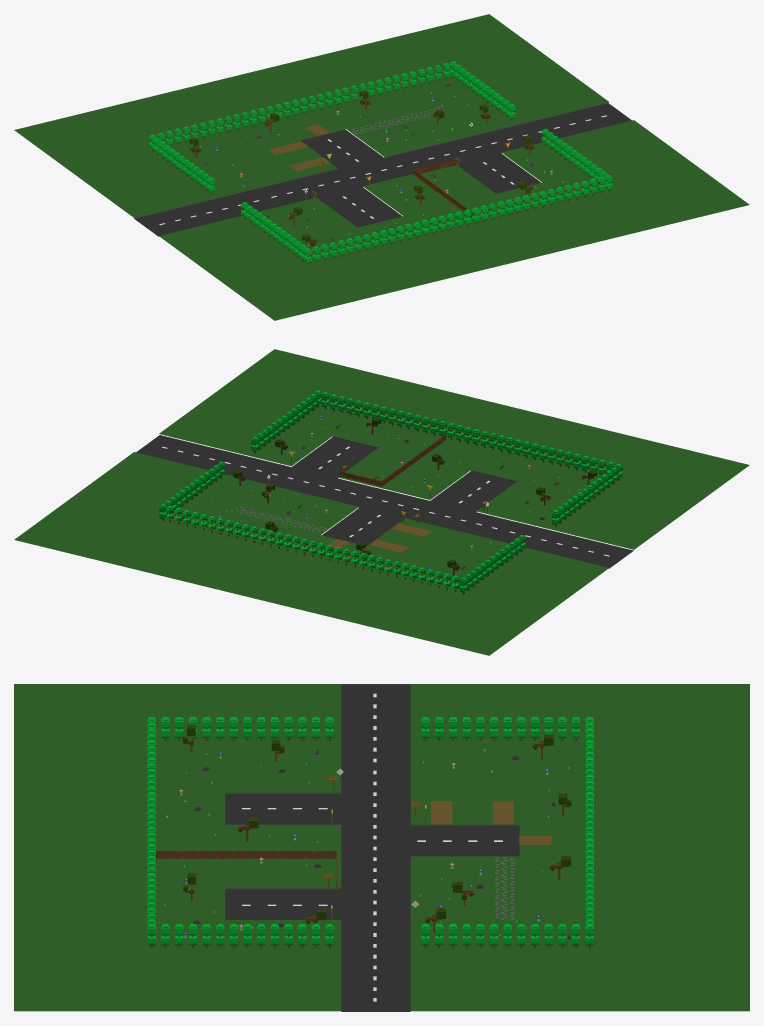
The picture shows the model from 3 angles, top to bottom: view 1: azimuth 30°, elevation 25°; view 2: azimuth 150°, elevation 25°; view 3: azimuth 270°, elevation 25°; orthographic projection. The views are drawn at different scales.
Visible parts, largest first — view 1: World; view 2: World; view 3: World.
Boxes of the visible parts, x1,y1,x2,y2 form: World: (14,14,749,320); World: (14,349,749,655); World: (14,684,749,1011).
Size of the model in its own units: 459 by 16.59 by 436.
